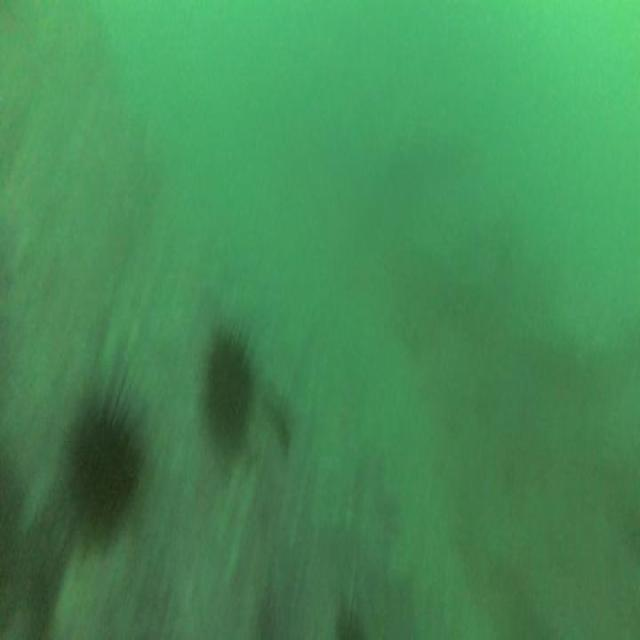echinus: (65, 412, 138, 522), (206, 335, 254, 447)
